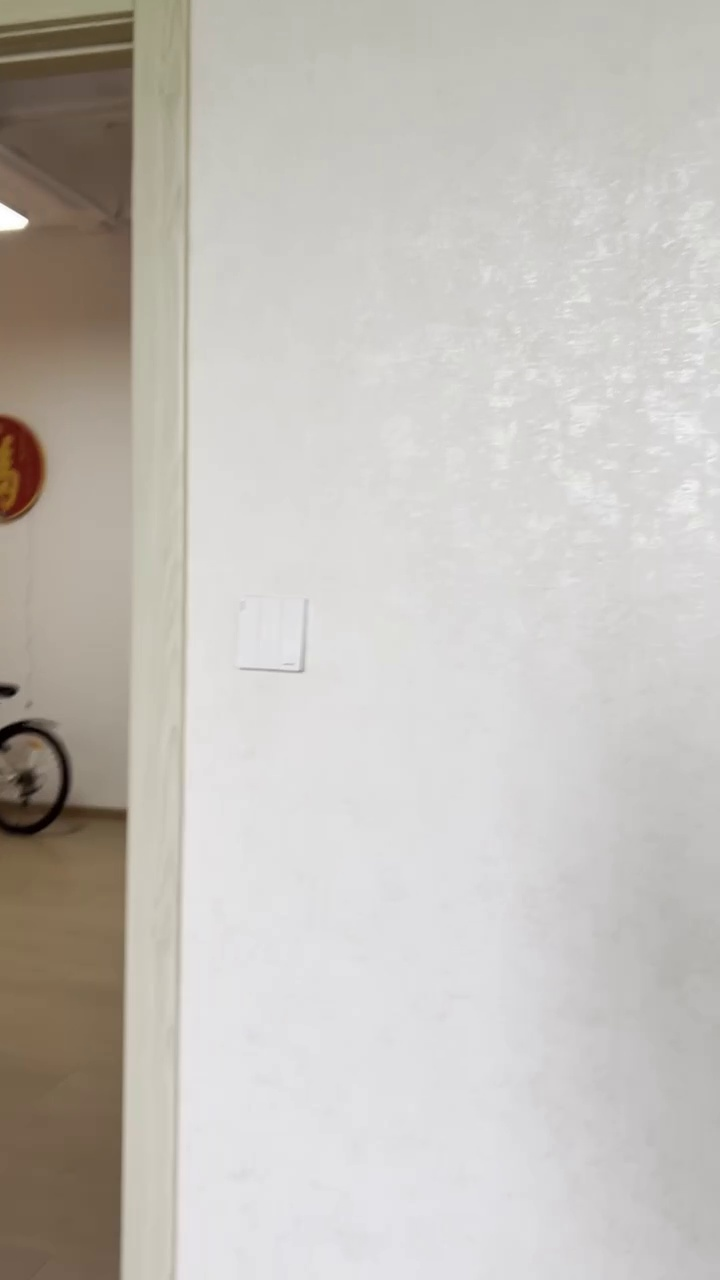button: (233, 593, 310, 676)
